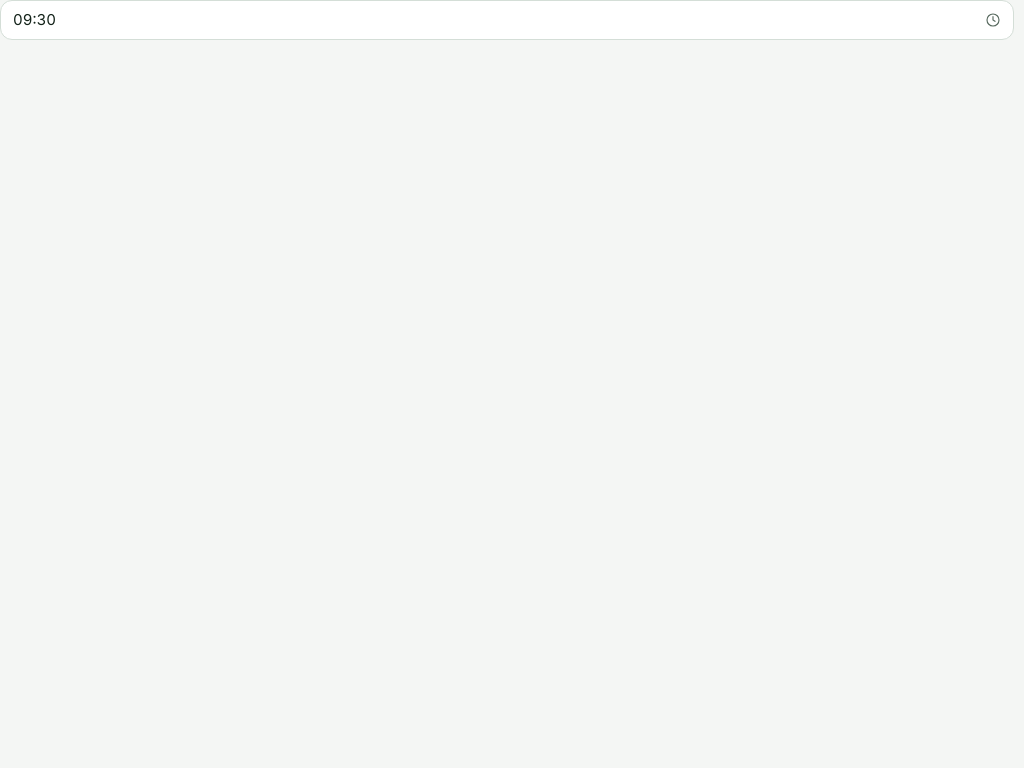
Test: NuqtaTimePicker › closes on Escape
The image size is (1024, 768).
Click the dropdown named "Pick time" at [34, 20], box [0, 0, 1014, 40]
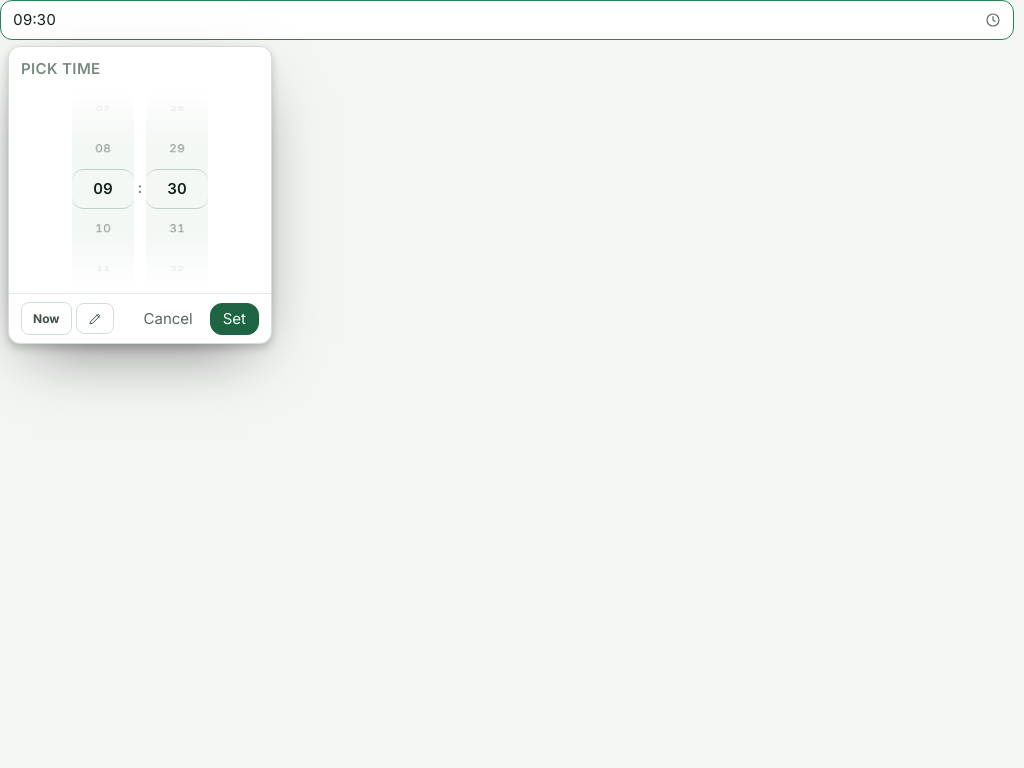
Press Escape
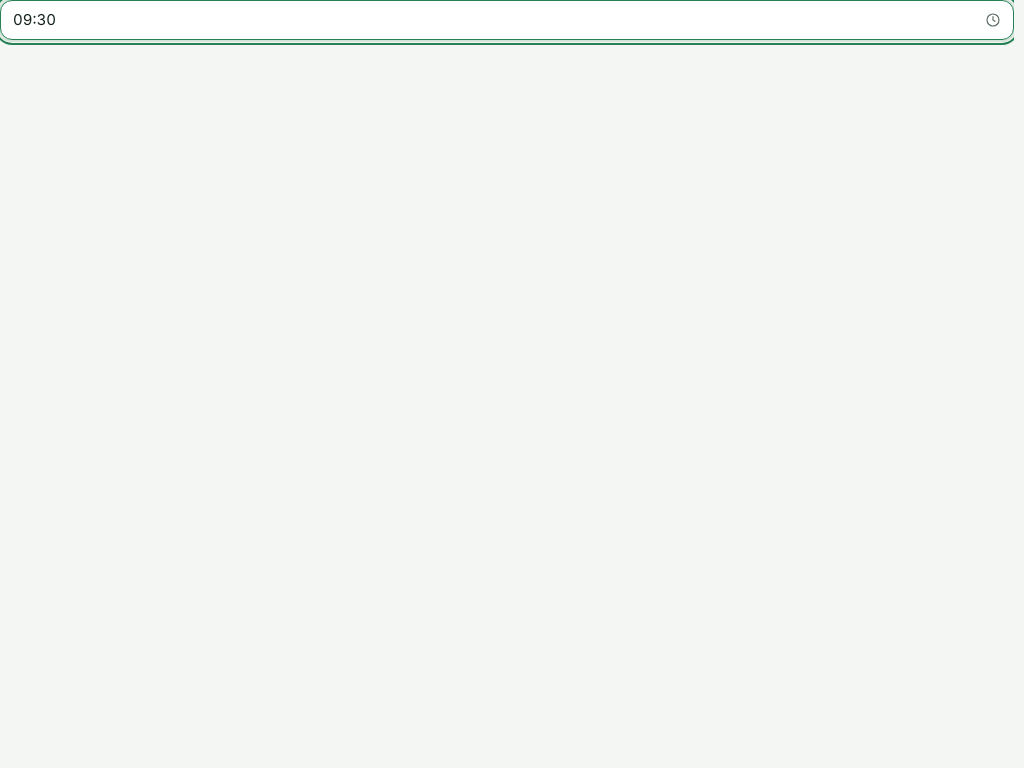
expect the dialog is gone: met
